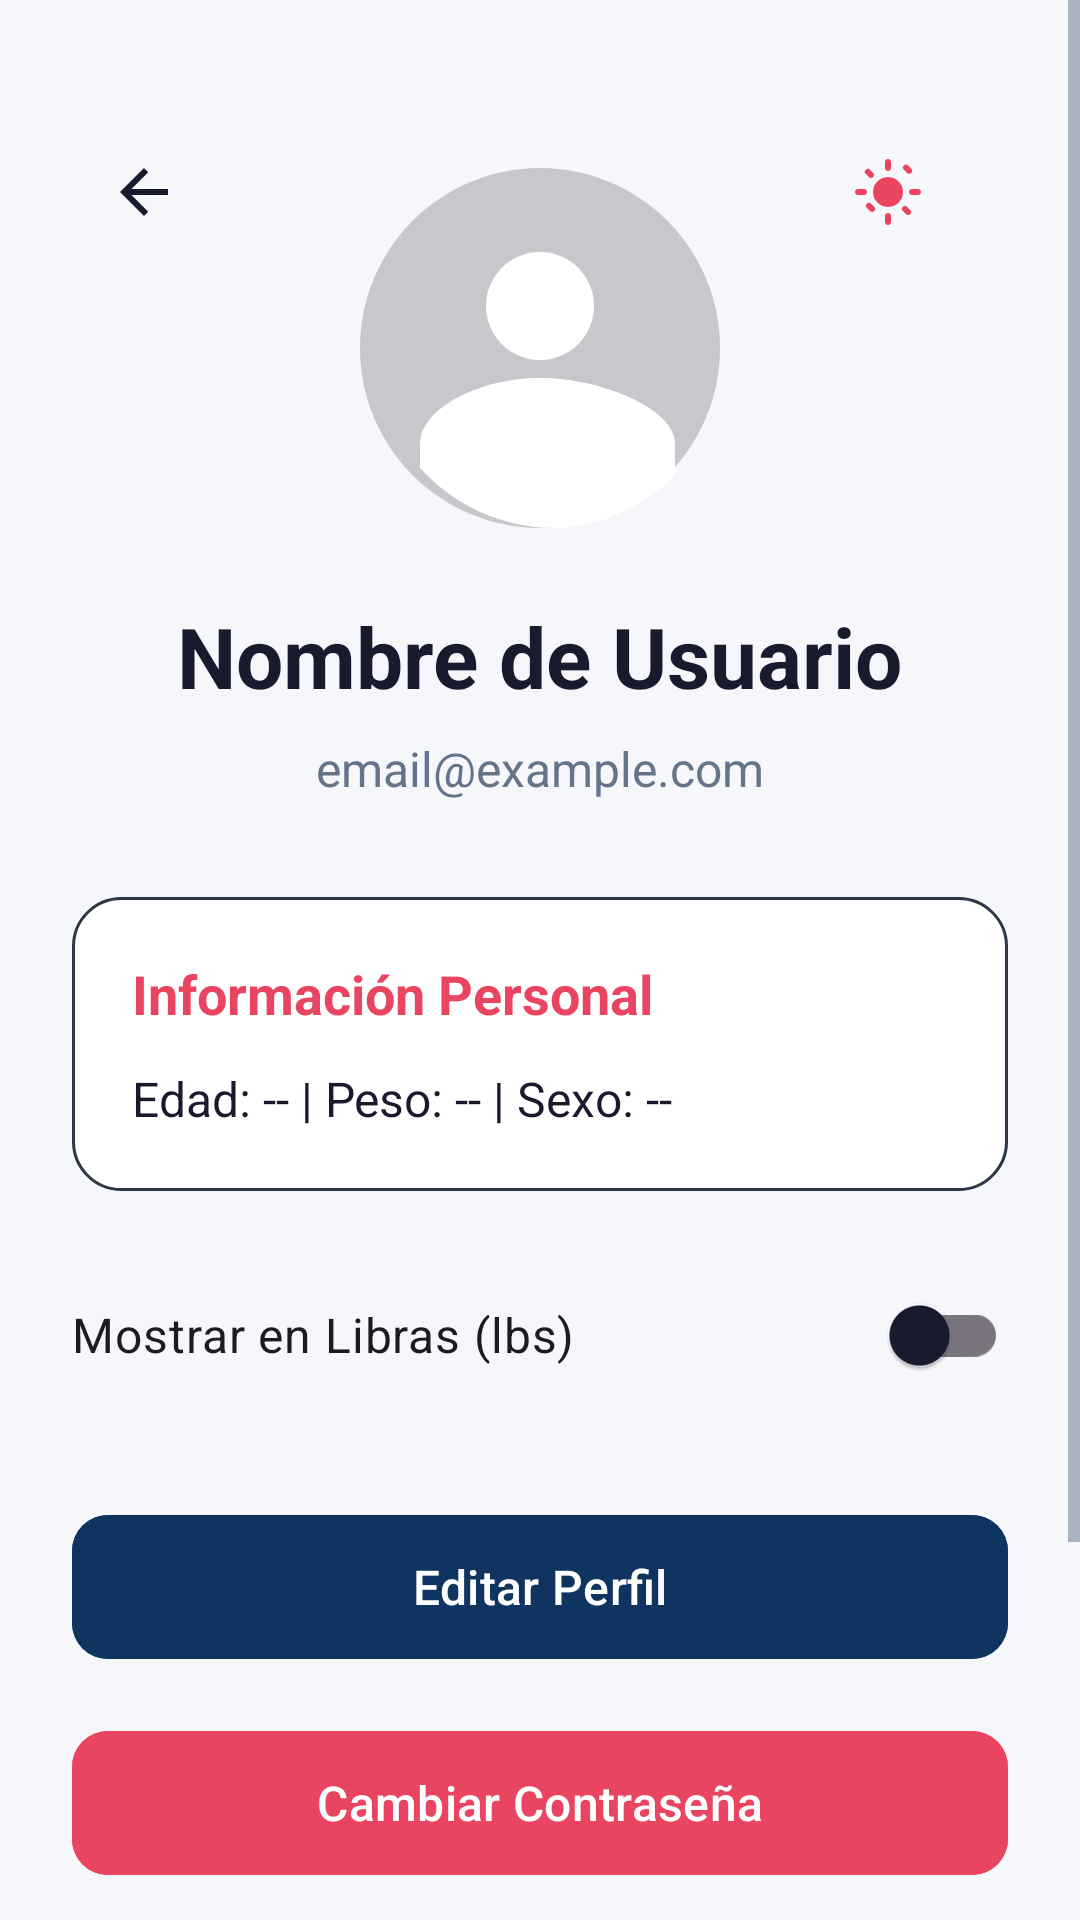

Named icons in this screenshot (1080×1920) and their bounding boxes, (x1, y1, x2, y2):
flecha atras: (120, 168, 168, 216)
perfil defecto: (360, 168, 720, 528)
sun: (855, 159, 921, 225)
